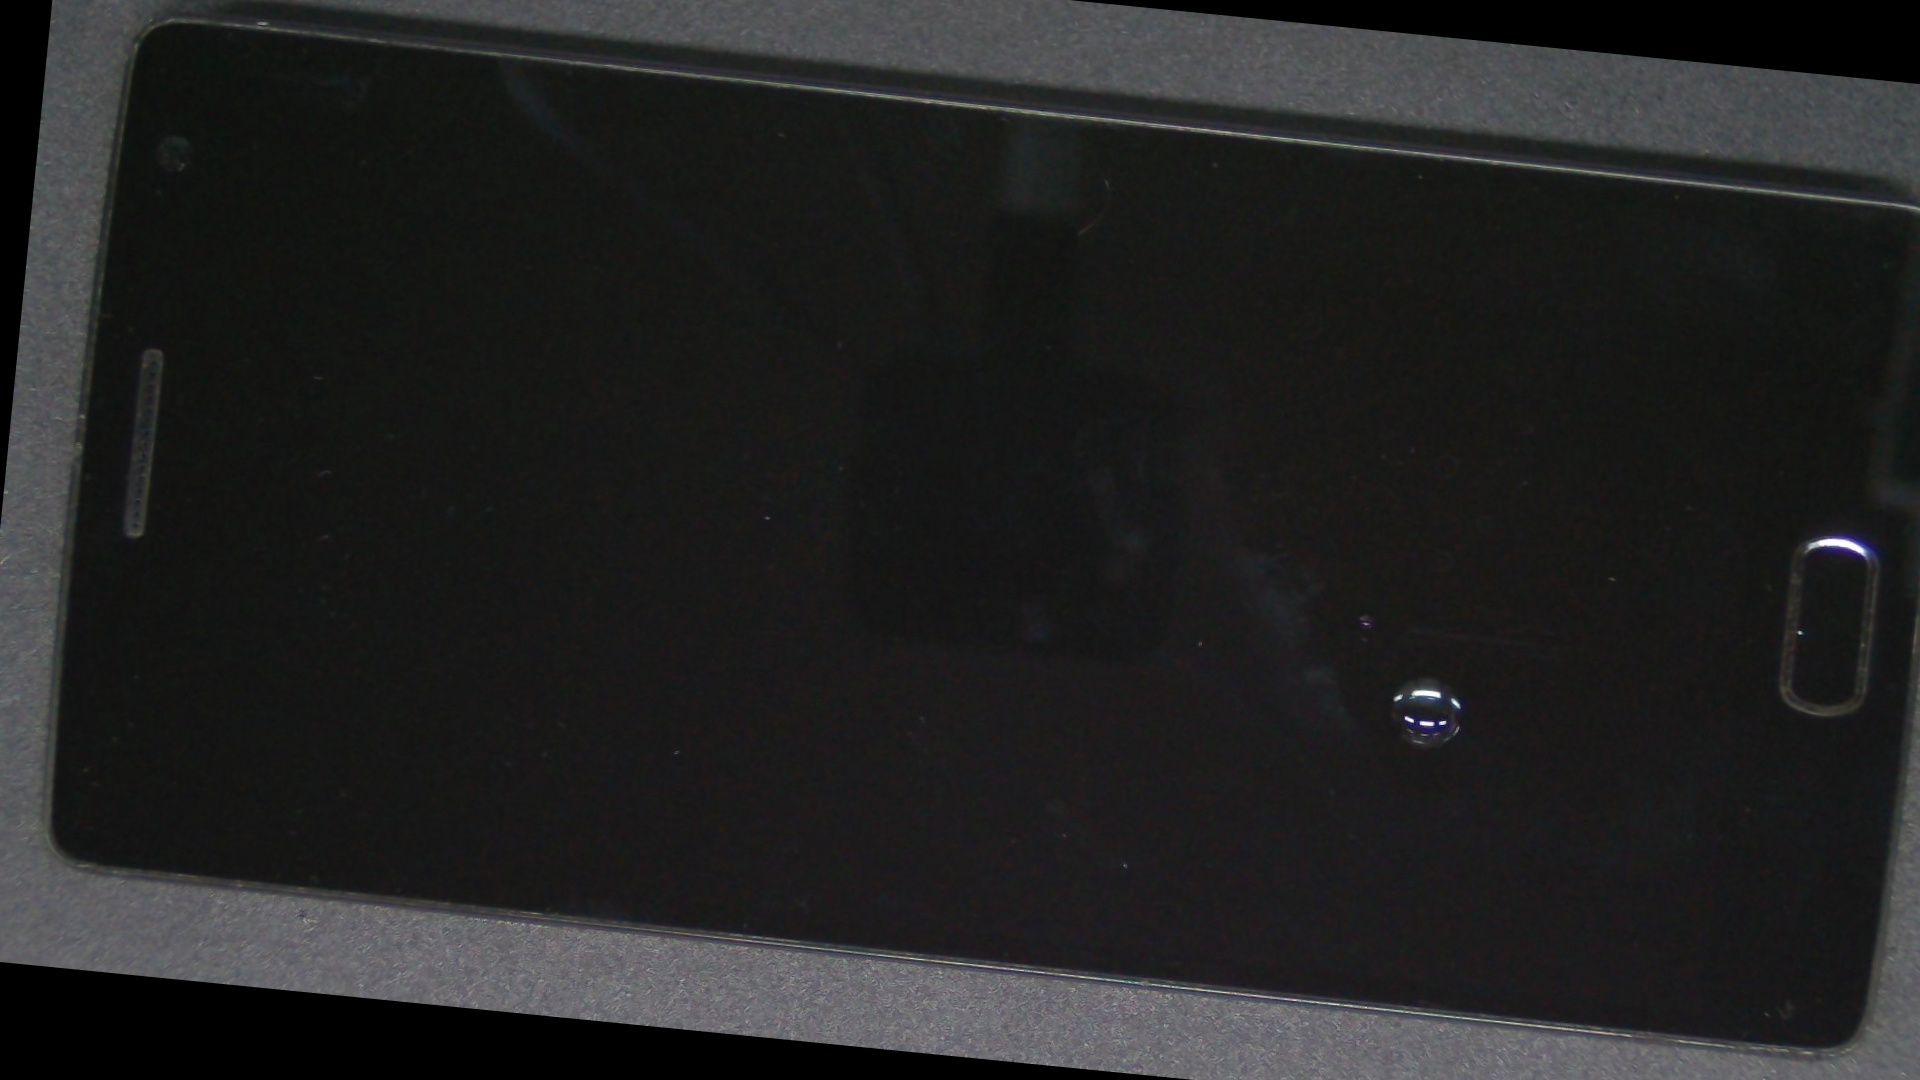oil: (680, 287, 1920, 1048), (657, 257, 1920, 964)
